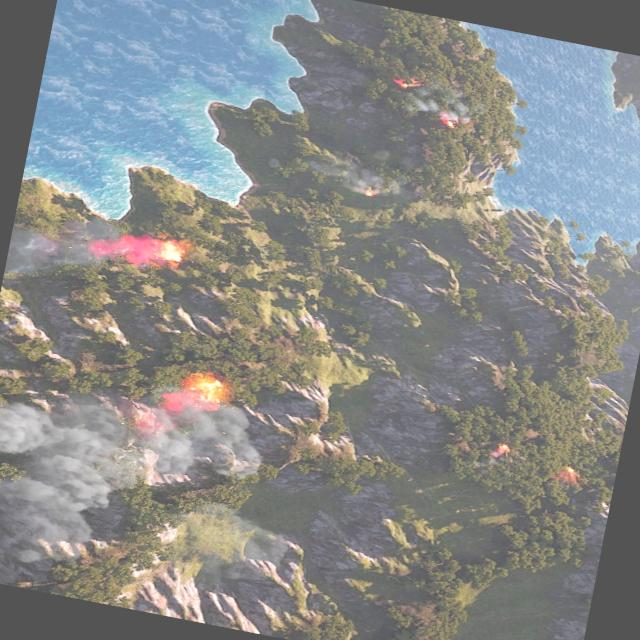fire: (160, 368, 230, 420), (154, 238, 186, 267), (390, 76, 420, 92), (558, 466, 580, 484), (490, 444, 510, 462), (438, 117, 458, 130), (362, 187, 378, 198)
smoke: (0, 357, 299, 629), (3, 204, 190, 304), (304, 156, 406, 202), (406, 88, 470, 126)
